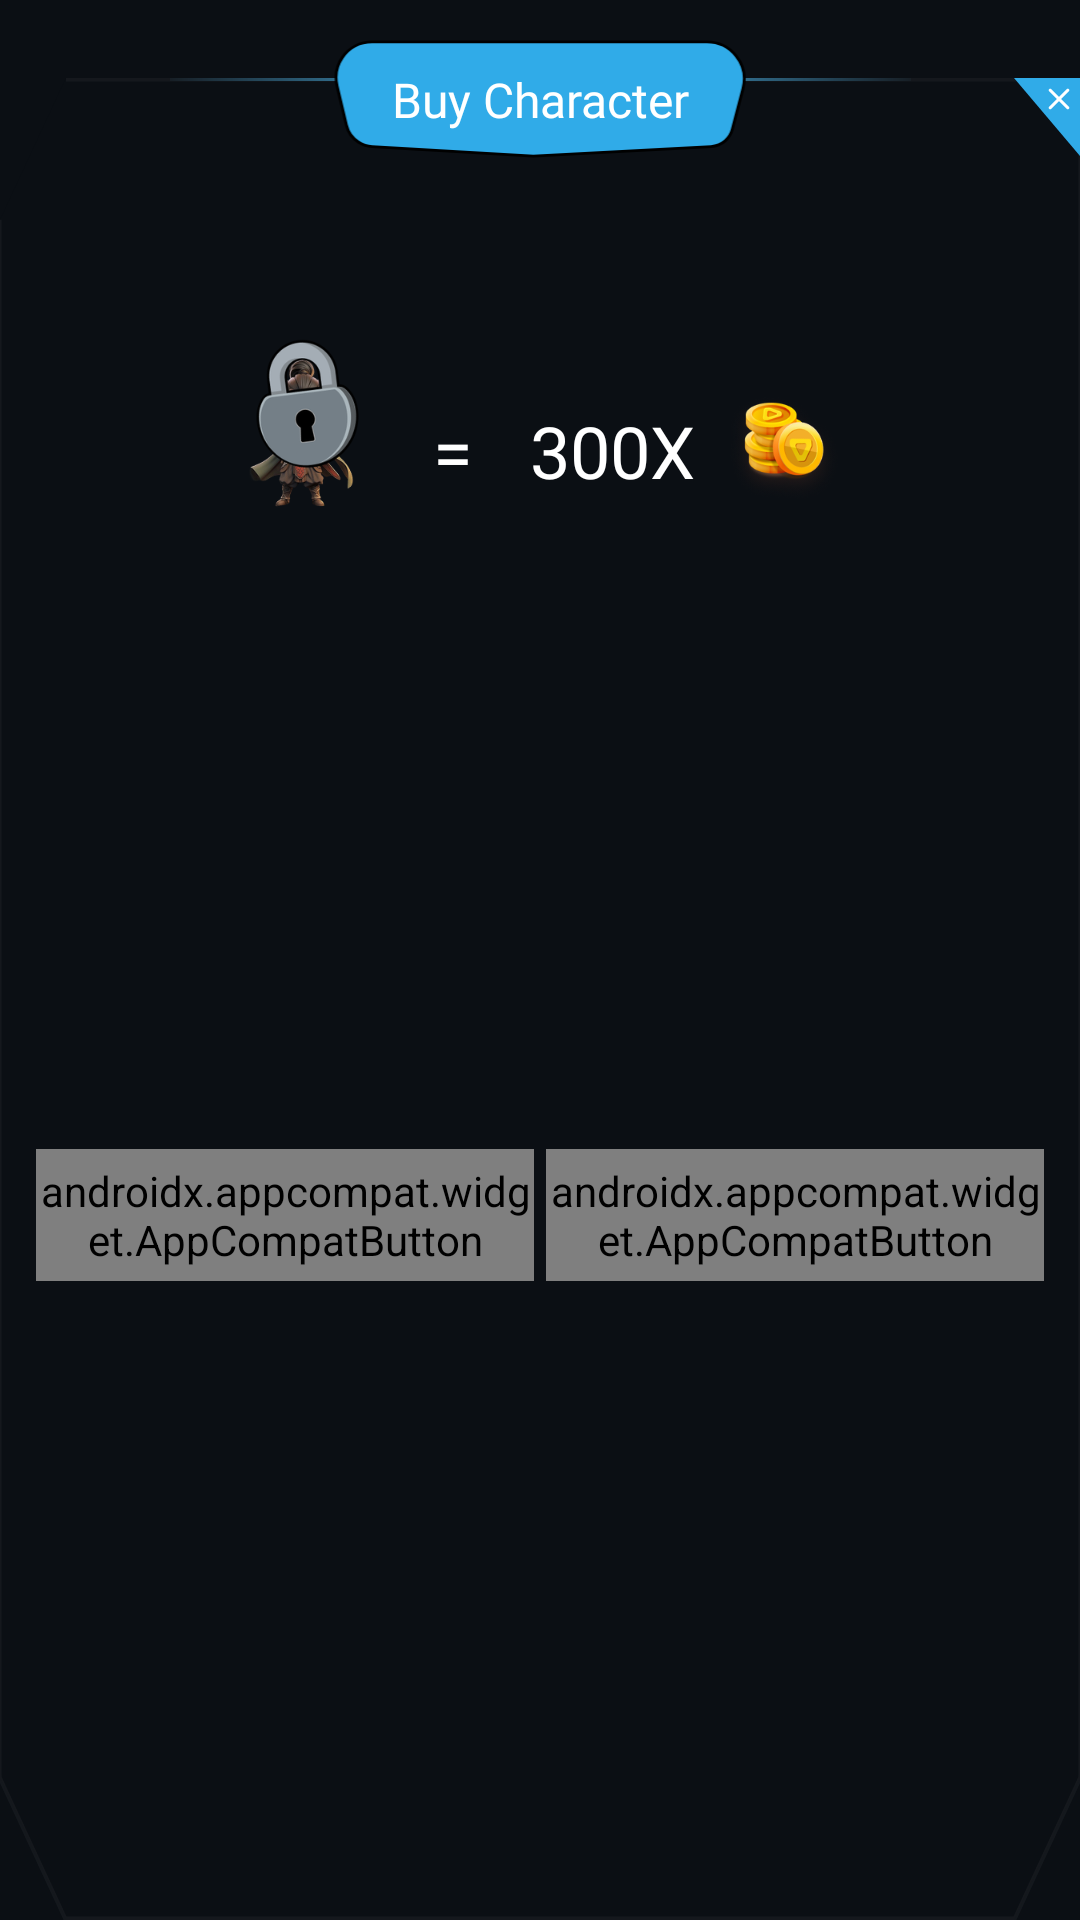

Icons on this 1080w x 1920h Android screen, each with its box as (x1, y1, x2, y2):
coins: (744, 402, 824, 479)
lock icon: (250, 342, 356, 506)
